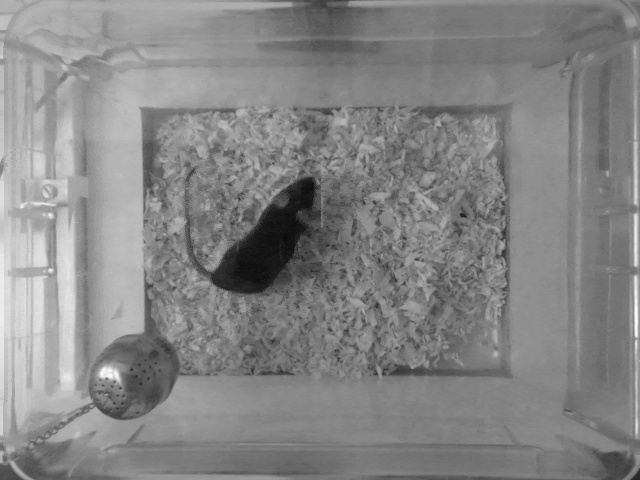mice: (183, 163, 318, 293)
